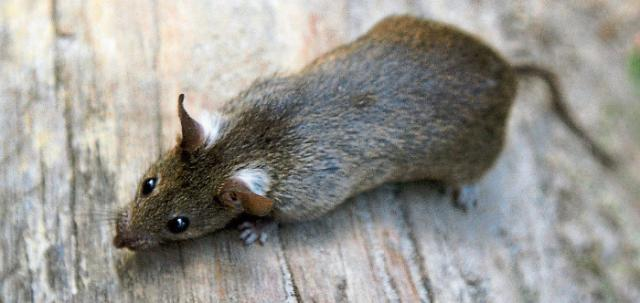rat: (98, 3, 528, 255)
